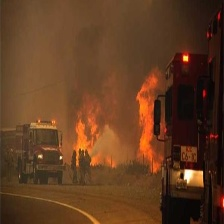fire: (69, 100, 116, 167)
smoke: (5, 1, 160, 110)
